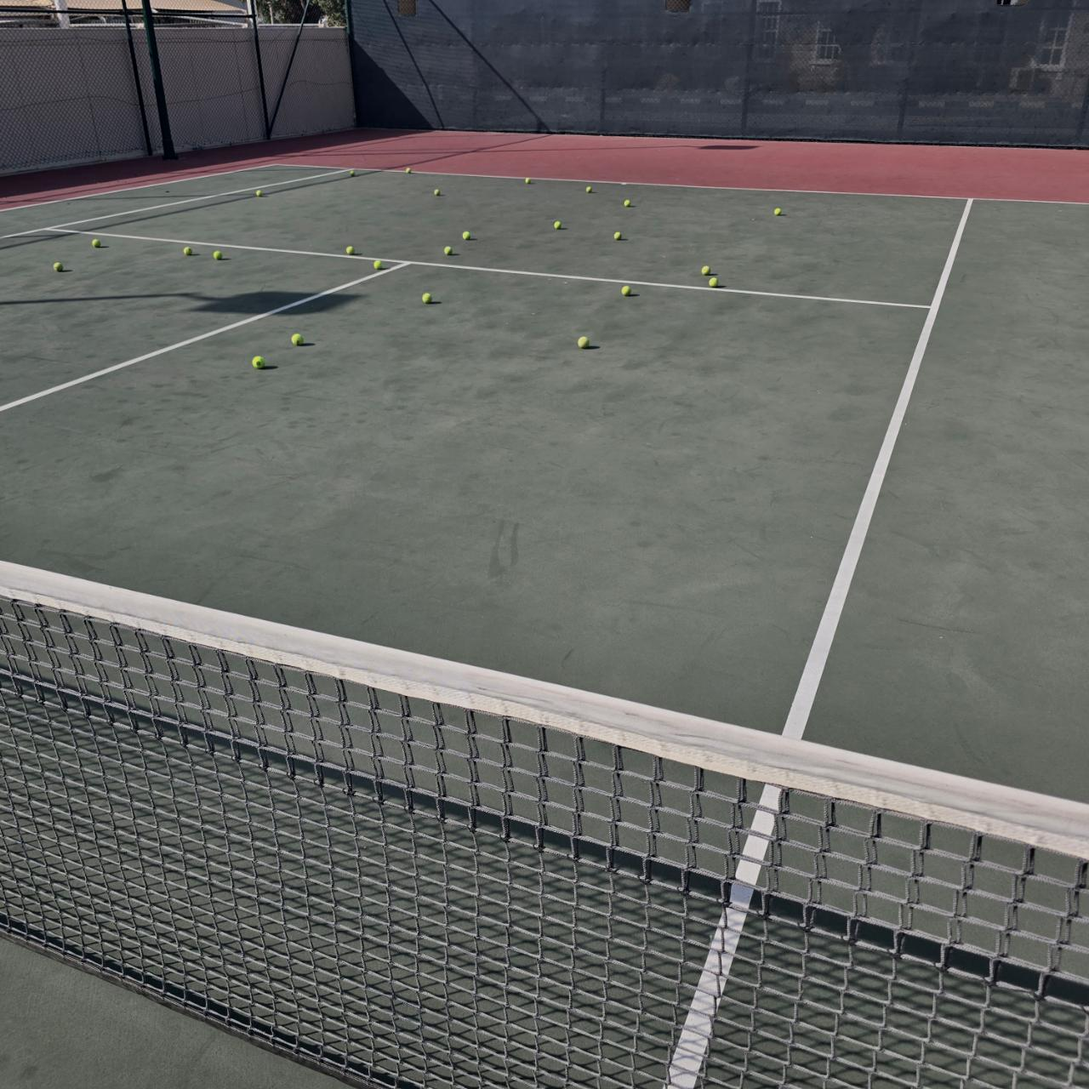tennis-ball: (291, 331, 305, 345), (578, 334, 590, 348), (253, 354, 265, 368), (701, 263, 713, 276), (621, 283, 633, 295), (420, 293, 433, 304), (372, 259, 383, 272), (612, 231, 623, 242), (708, 277, 718, 288), (345, 245, 356, 255), (183, 246, 193, 257), (53, 262, 64, 272), (213, 251, 223, 261), (462, 230, 471, 240), (444, 246, 454, 255), (92, 238, 102, 247), (774, 207, 783, 216), (553, 221, 562, 230), (623, 199, 631, 208), (433, 188, 441, 196), (255, 189, 263, 197), (405, 167, 412, 174), (586, 186, 592, 194), (525, 177, 531, 184), (349, 170, 355, 177)
